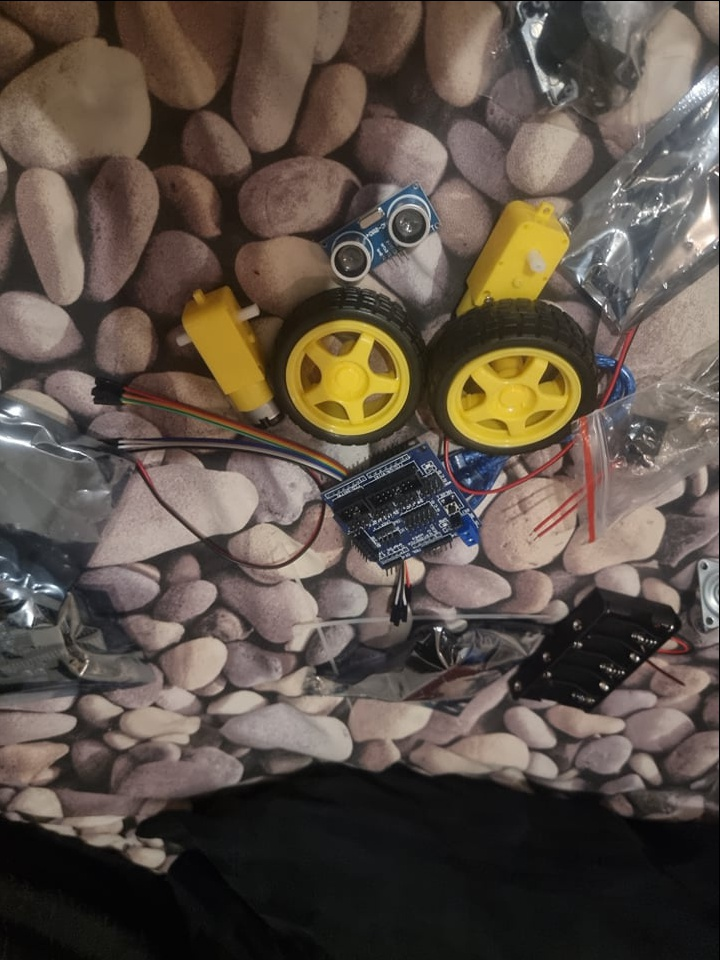5V EXPANSION: (325, 440, 479, 568)
BATTERY BOX: (508, 584, 682, 714)
SENSOR: (318, 185, 439, 284)
